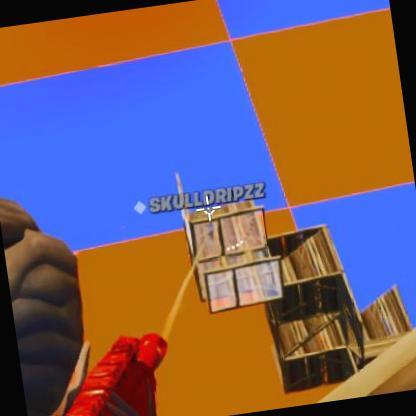person: (205, 217, 217, 242)
